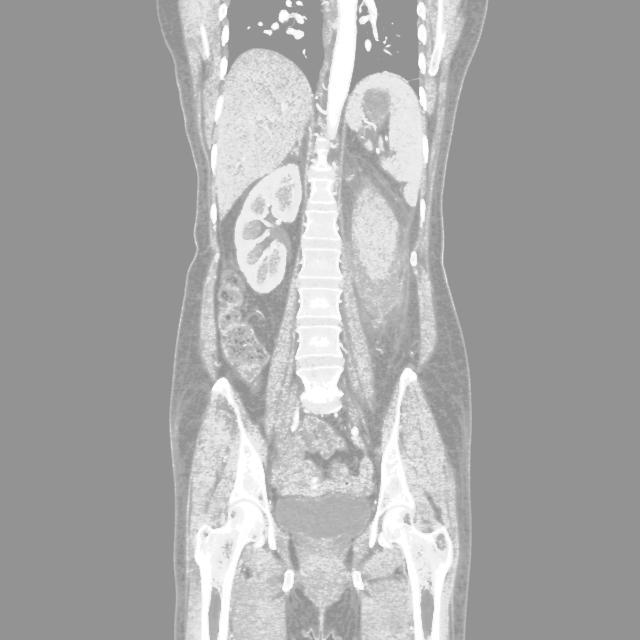TUMOR: (286, 210, 495, 437)
